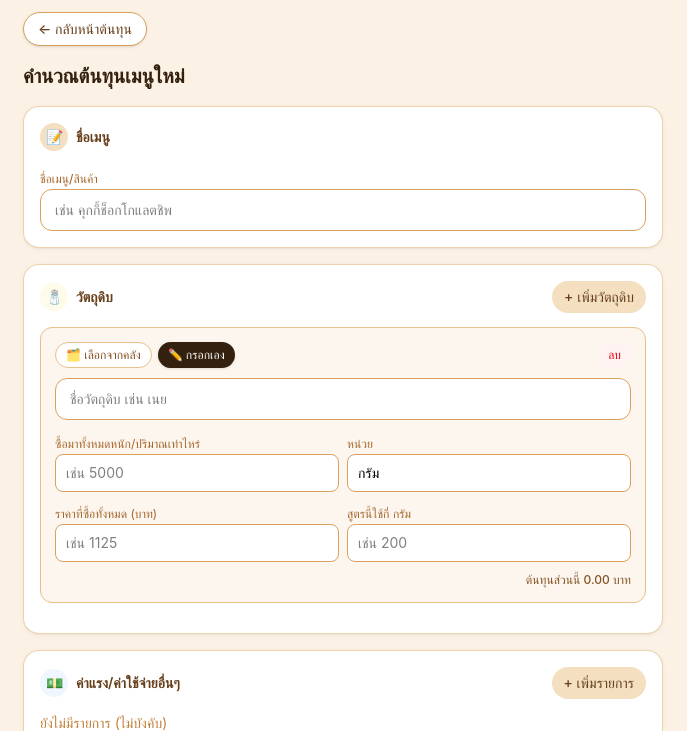
Test: CostRecipeForm — สร้างใหม่ › มีวัตถุดิบในคลัง แถวใหม่เริ่มที่โหมด "เลือกจากคลัง" อัตโนมัติ เลือกแล้วหน่วย+ราคาต่อหน่วยดึงมาให้เอง ไม่ต้องพิมพ์เอง (กันบั๊กแปลงหน่วยผิด)
Note: แถวแรกที่มีอยู่ก่อนแล้วยังเป็นโหมดกรอกเอง (ของเดิมก่อนมีตัวเลือกนี้) — กดปุ่ม "เลือกจากคลัง" เพื่อสลับโหมด
Click the button "🗂️ เลือกจากคลัง" at (103, 355), box [55,342,152,368]
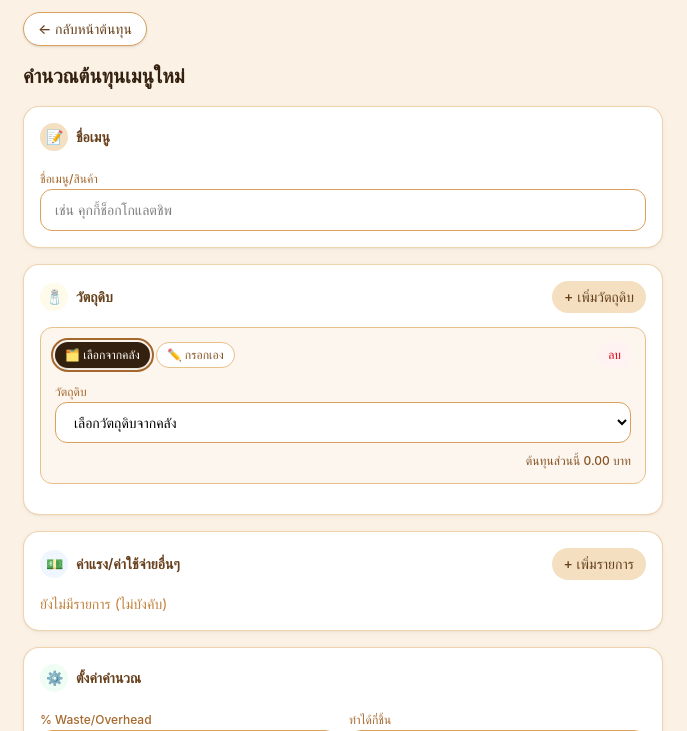
Select "แป้งสาลี (กรัม)" in the dropdown at (343, 422), box [55,402,631,443]
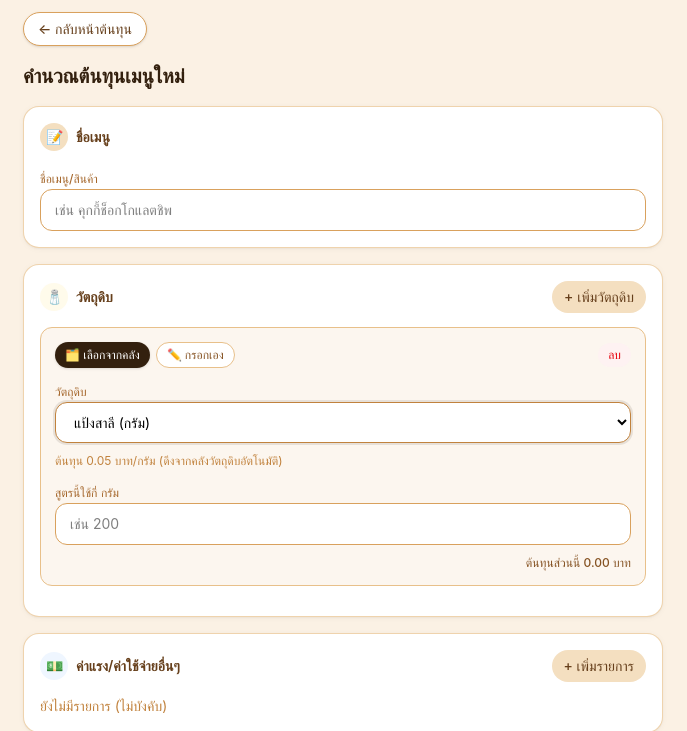
Now the text "ต้นทุน 0.05 บาท/กรัม (ดึงจากคลังวัตถุดิบอัตโนมัติ)" is shown, box [55,453,283,468]
Now the number field labelled "สูตรนี้ใช้กี่ กรัม" is shown
Type "200" into the number field labelled "สูตรนี้ใช้กี่ กรัม" at (343, 524), box [55,503,631,545]
(page scrolled)
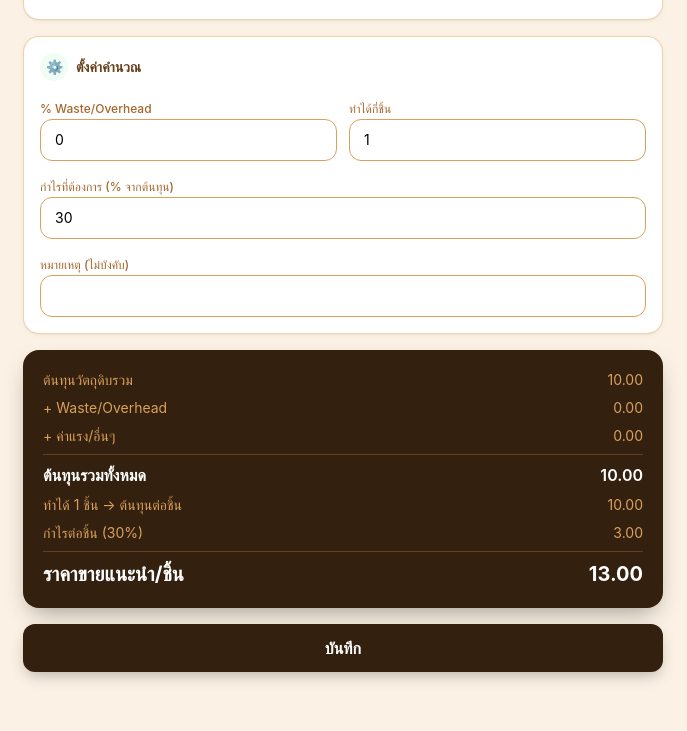
Now the text "10.00" in the row of "ต้นทุนวัตถุดิบรวม" is shown, box [608,371,643,388]
